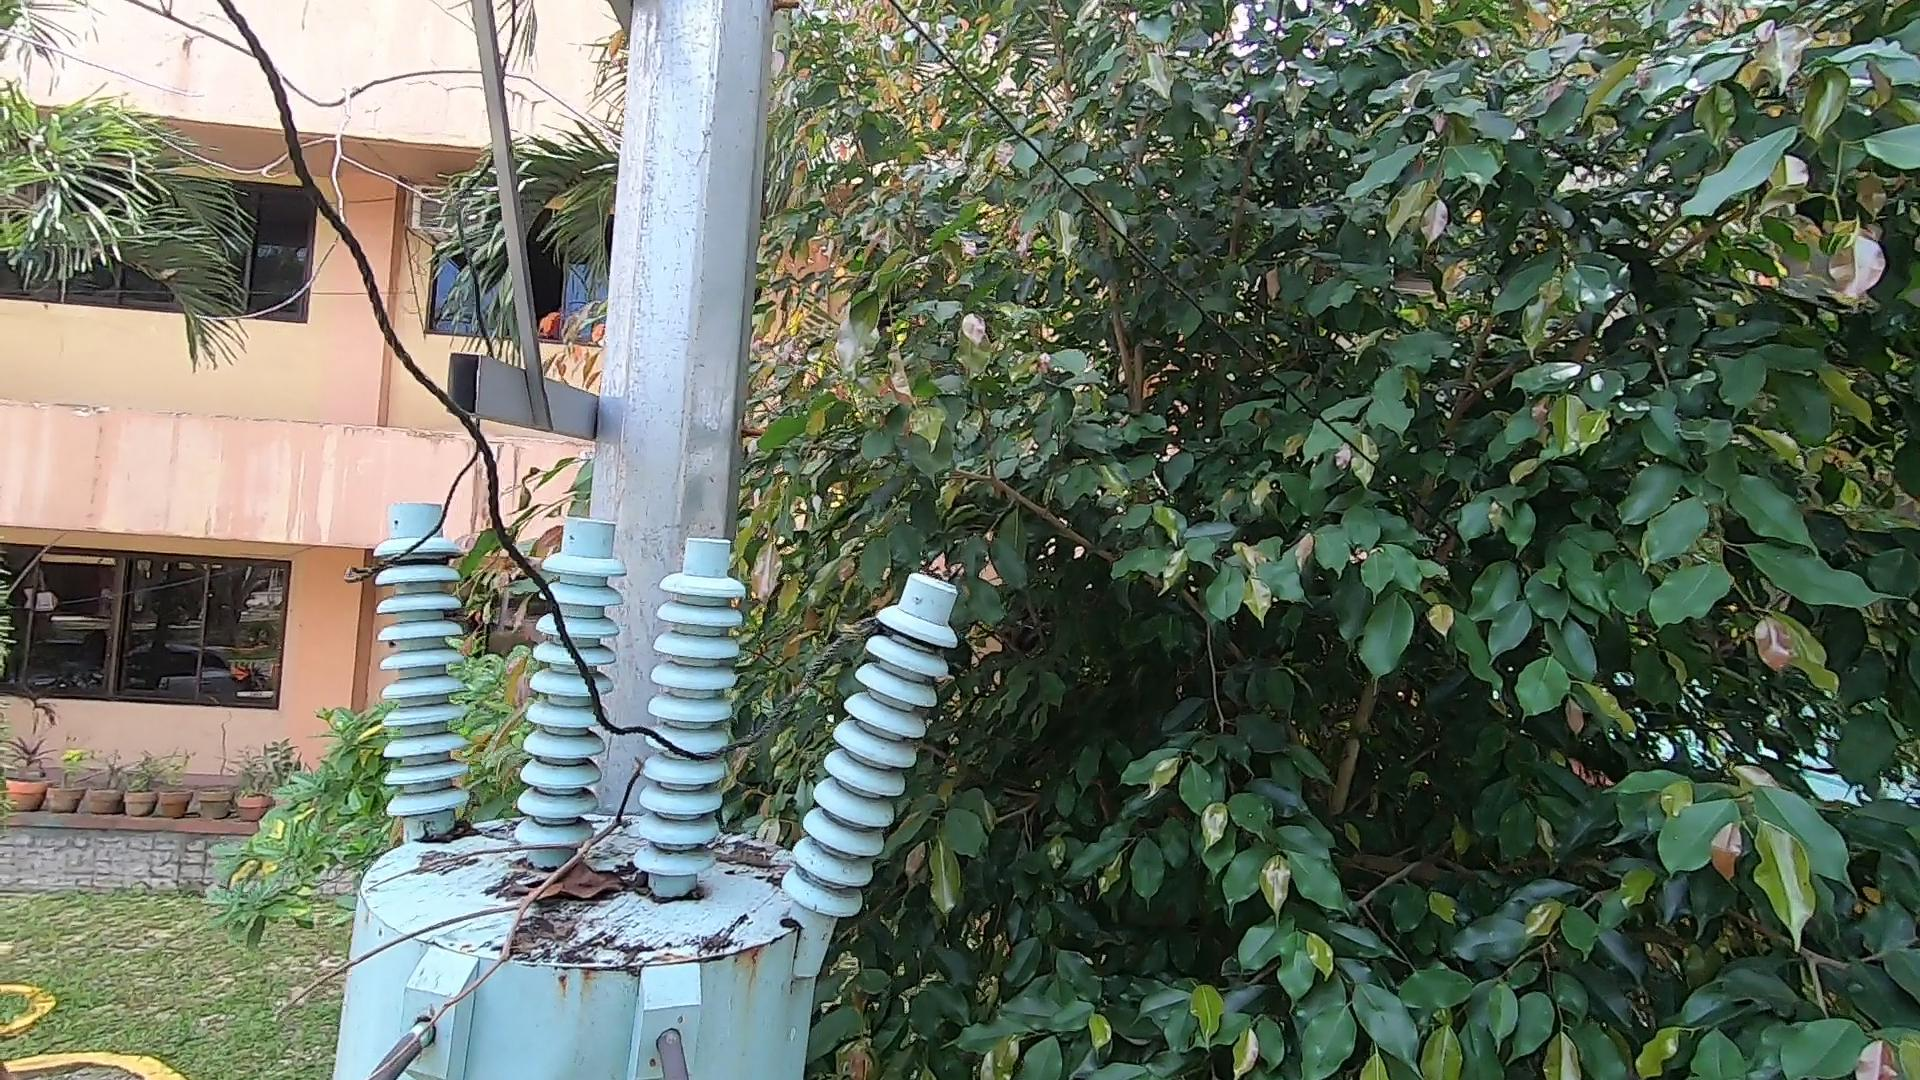leaf: (495, 852, 647, 916), (719, 833, 795, 893), (415, 812, 487, 853)
tree branch: (243, 750, 680, 1062)
